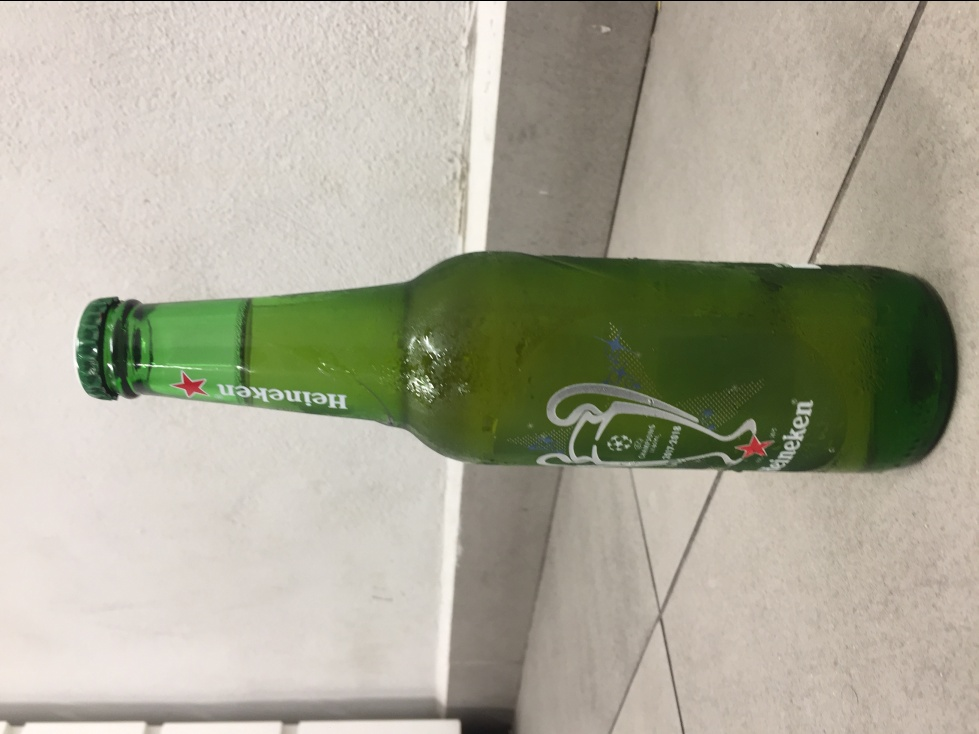heineken: (77, 248, 962, 477)
